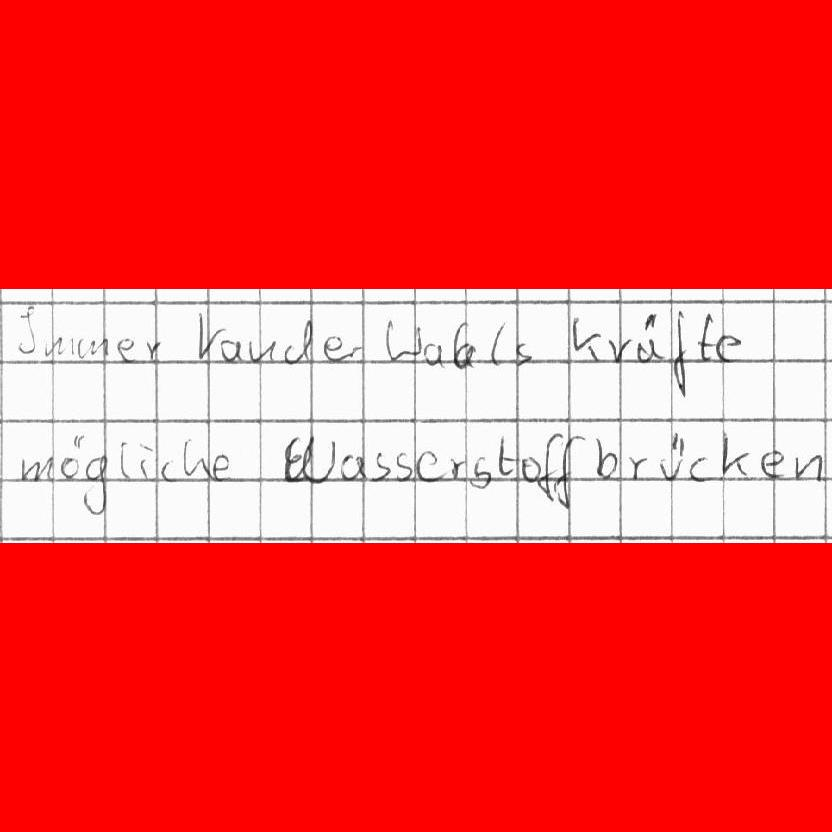Char: (281, 432, 339, 485), (553, 432, 584, 509), (380, 315, 425, 366), (566, 313, 605, 363), (80, 451, 110, 516), (668, 307, 691, 391), (279, 314, 315, 365), (718, 428, 751, 480), (655, 430, 686, 484), (539, 430, 563, 499), (180, 435, 214, 480), (194, 310, 222, 364), (634, 308, 661, 362), (13, 301, 40, 354), (592, 433, 620, 479), (16, 453, 56, 485), (711, 329, 743, 364), (694, 309, 715, 362), (60, 433, 83, 481), (75, 332, 111, 362), (487, 319, 509, 367), (414, 447, 444, 481), (141, 334, 170, 368), (495, 434, 517, 478), (336, 452, 368, 482), (792, 451, 824, 481), (467, 453, 492, 491), (759, 449, 790, 479), (453, 338, 482, 370), (245, 336, 278, 364), (606, 332, 634, 364), (624, 451, 652, 483), (210, 449, 235, 484), (44, 331, 76, 358), (369, 448, 391, 484), (137, 439, 156, 480), (336, 338, 366, 363), (686, 452, 710, 483), (394, 449, 414, 486), (115, 439, 132, 482), (513, 337, 537, 367), (422, 340, 447, 368), (113, 333, 135, 363), (520, 454, 542, 484), (157, 454, 180, 482), (218, 337, 241, 363), (321, 332, 341, 361), (450, 453, 468, 481)
